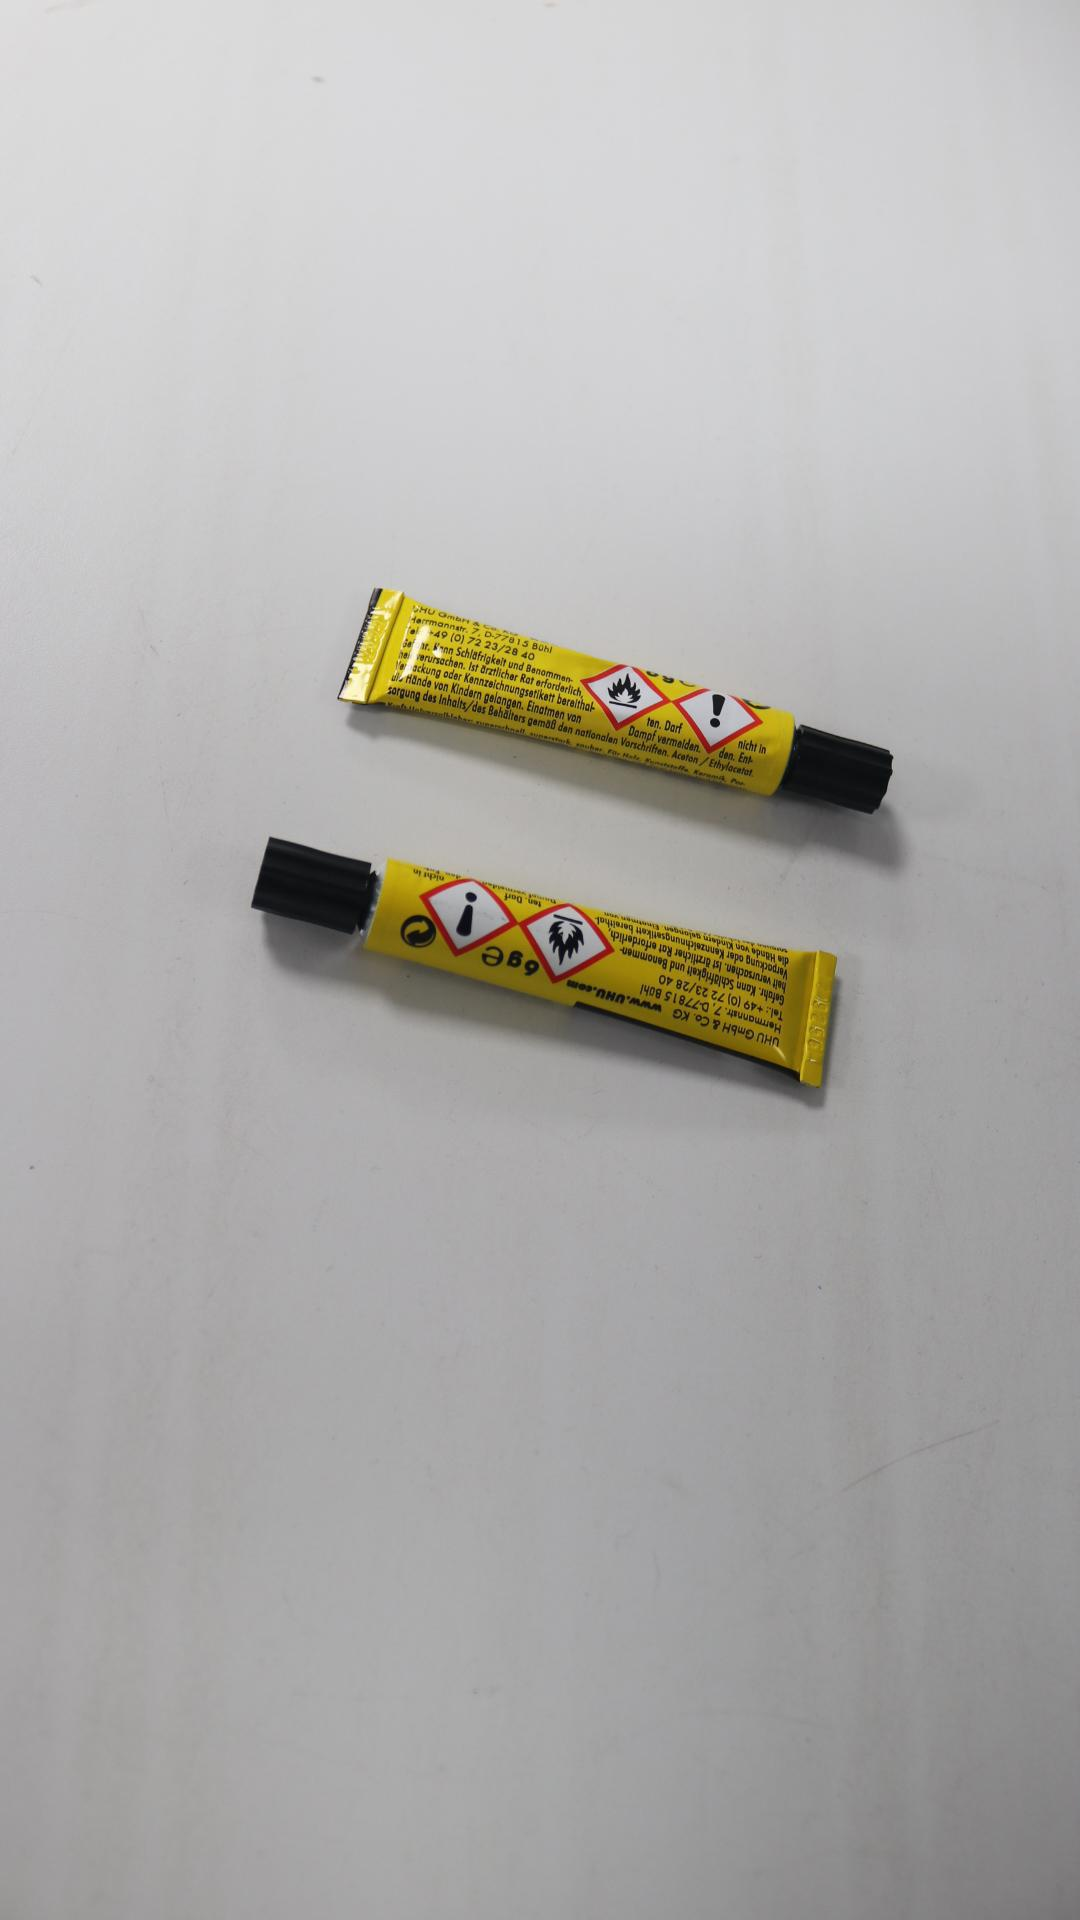Head: (307, 874, 326, 891), (836, 760, 850, 775)
Tail: (359, 636, 383, 658), (815, 1010, 827, 1030)
Tube: (248, 836, 839, 1090), (338, 587, 895, 812)
